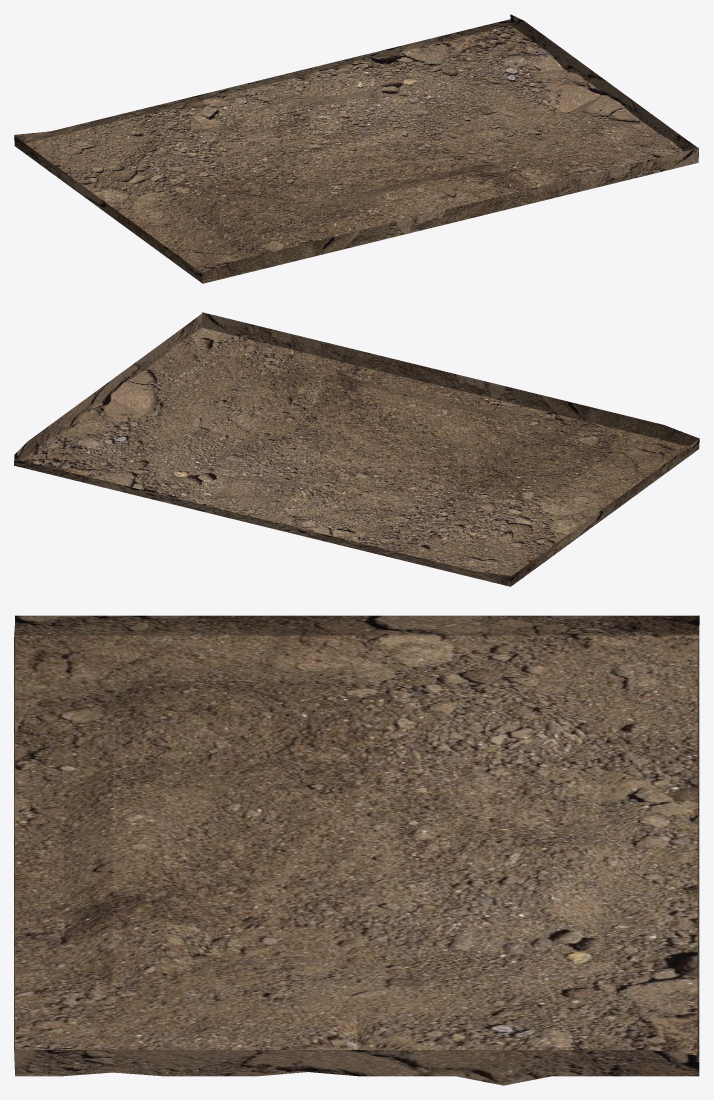
The model's file is tierrasuelo.dae.
3 renders of one model, top to bottom at view 1: azimuth 30°, elevation 25°; view 2: azimuth 150°, elevation 25°; view 3: azimuth 270°, elevation 25°, orthographic. The views are drawn at different scales.
Parts seen in each view (by area): view 1: sueloTierra; view 2: sueloTierra; view 3: sueloTierra.
Boxes of the visible parts, <box> form: sueloTierra: <box>14,14,698,283</box>; sueloTierra: <box>14,312,699,586</box>; sueloTierra: <box>14,615,699,1085</box>.
Bounding box in the file's own units: 1.34 × 0.8774 × 0.0631.
1 material, 1 textured.
